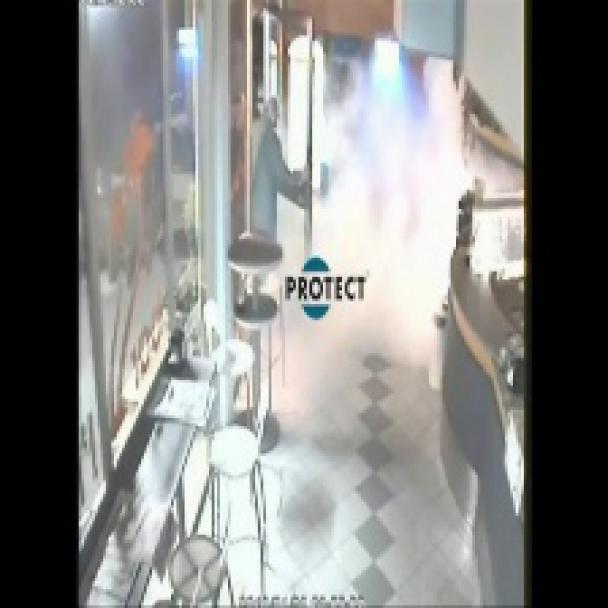smoke: (263, 18, 508, 374)
